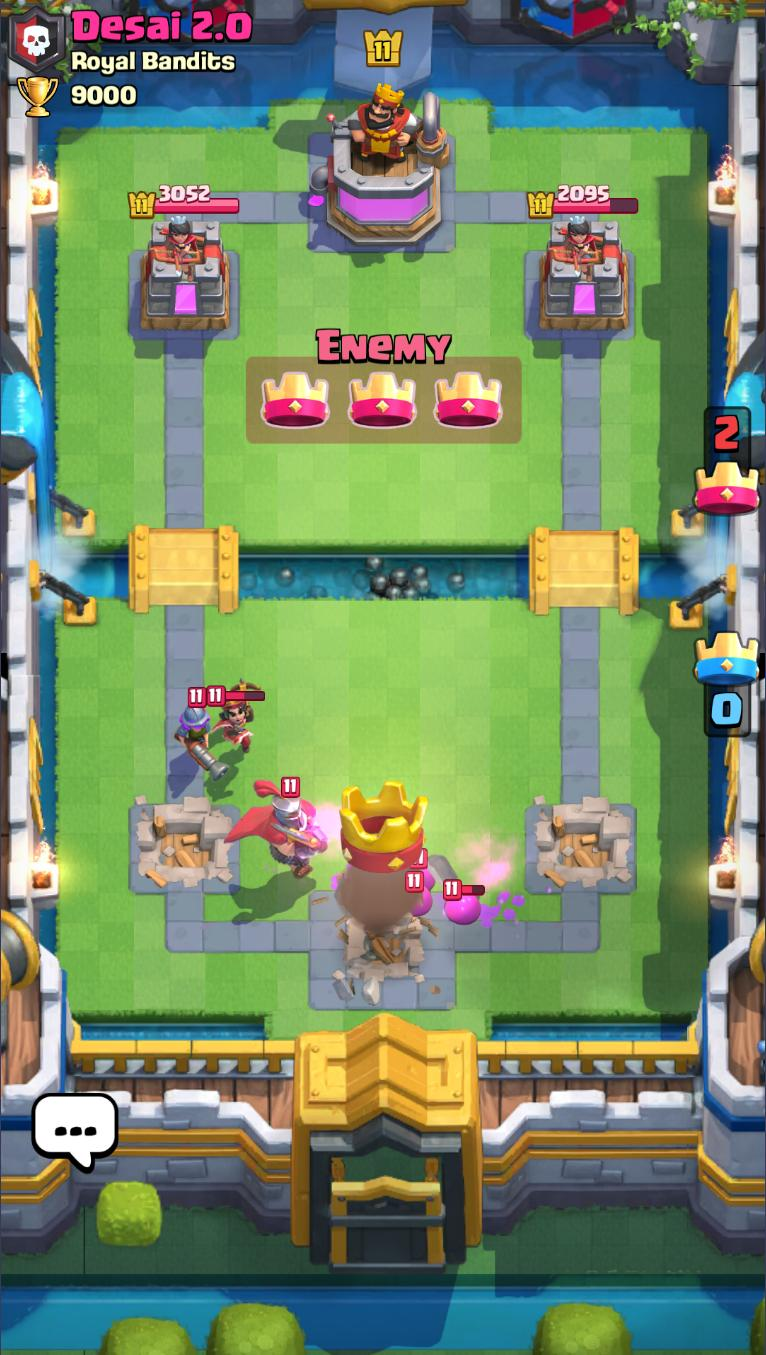ElixirGolemMicro: (443, 877, 484, 925), (398, 872, 435, 920), (408, 848, 438, 890)
EnemyTower: (536, 215, 633, 333), (136, 215, 231, 333)
KingTower: (310, 77, 453, 248)
LittlePrince: (206, 678, 267, 757)
LittlePrinceGuard: (226, 778, 327, 881)
Musketeer: (173, 686, 230, 780)
MyKingTowerBrocken: (309, 858, 452, 1009)
MyPrincessTowerBrocken: (523, 799, 638, 898), (125, 803, 239, 898)
PrincessTower: (550, 214, 605, 276), (151, 215, 206, 275)
TowerPrincessHP: (527, 182, 641, 219), (128, 183, 242, 220)
